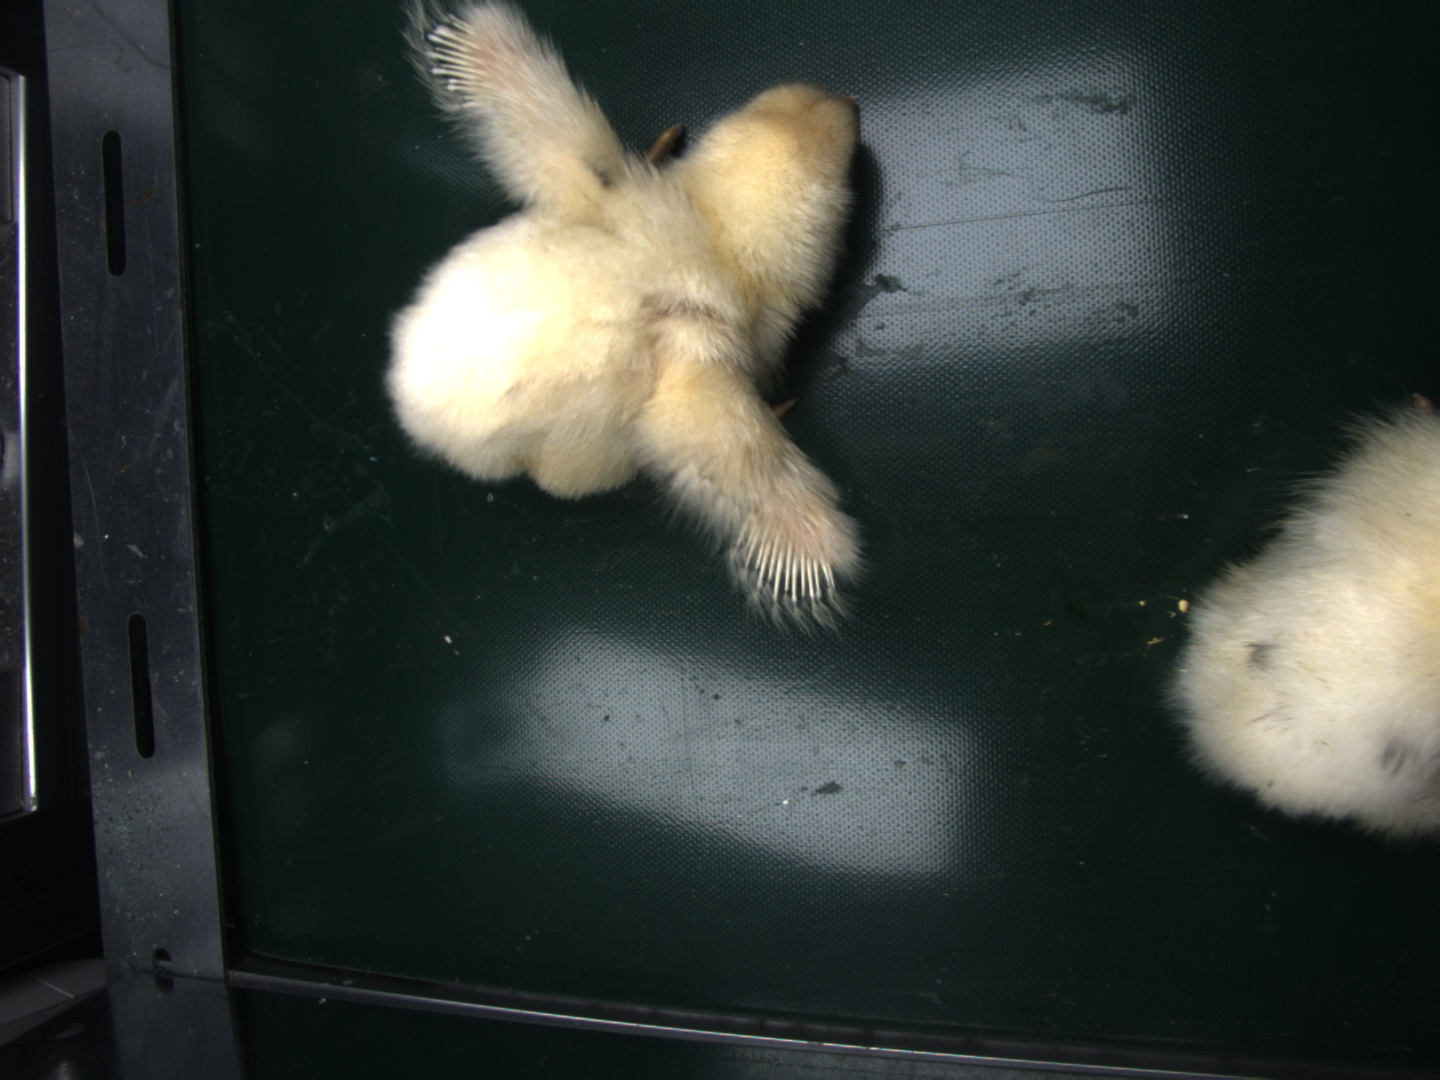male: (739, 522, 833, 602), (429, 6, 488, 106)
